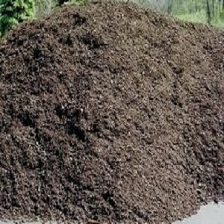loamy_soil: (12, 19, 214, 200)
